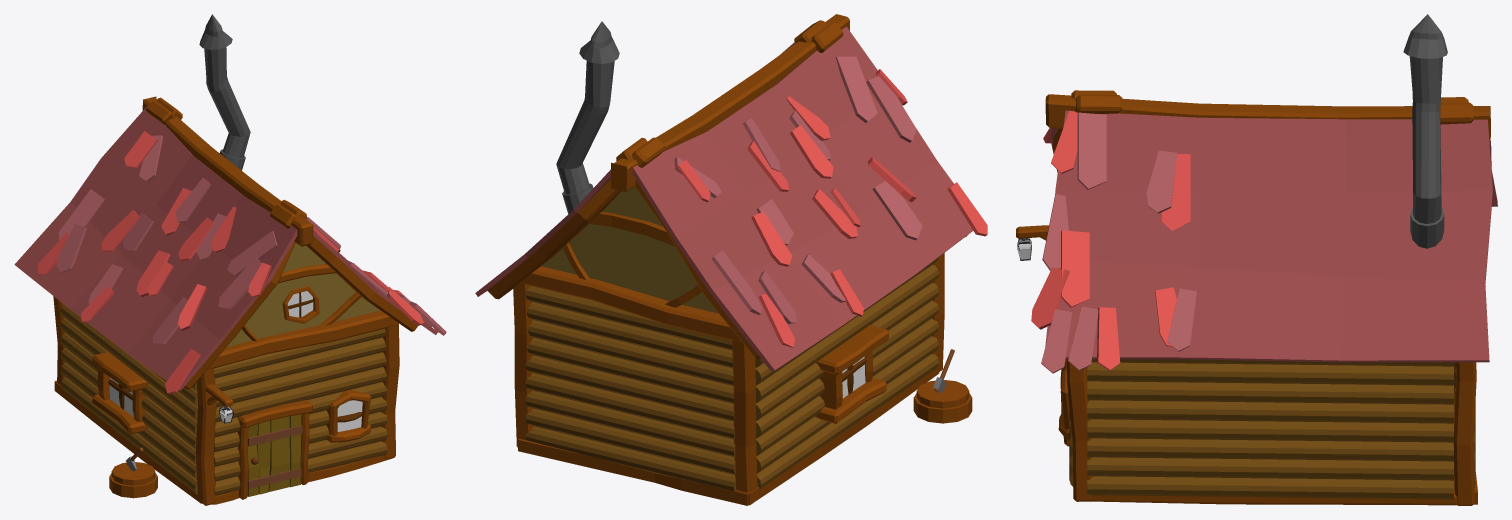
File: casa.fbx
3 renders of one model, left to right at view 1: azimuth 30°, elevation 25°; view 2: azimuth 150°, elevation 25°; view 3: azimuth 270°, elevation 25°, orthographic. The views are drawn at different scales.
Parts seen in each view (by area): view 1: Plane.008; view 2: Plane.008; view 3: Plane.008.
Part boxes in pixels (x1,y1,x2,y2): Plane.008: (14,14,446,505); Plane.008: (475,14,987,505); Plane.008: (1016,14,1497,505).
Bounding box in the file's own units: 415 × 489 × 462.
